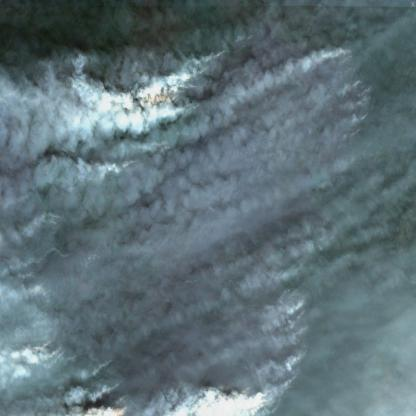fire: (284, 276, 312, 382), (343, 43, 372, 135), (106, 358, 133, 416), (185, 62, 212, 109), (44, 328, 72, 372), (128, 152, 144, 175), (156, 136, 172, 158), (51, 208, 62, 235), (212, 45, 233, 59)
